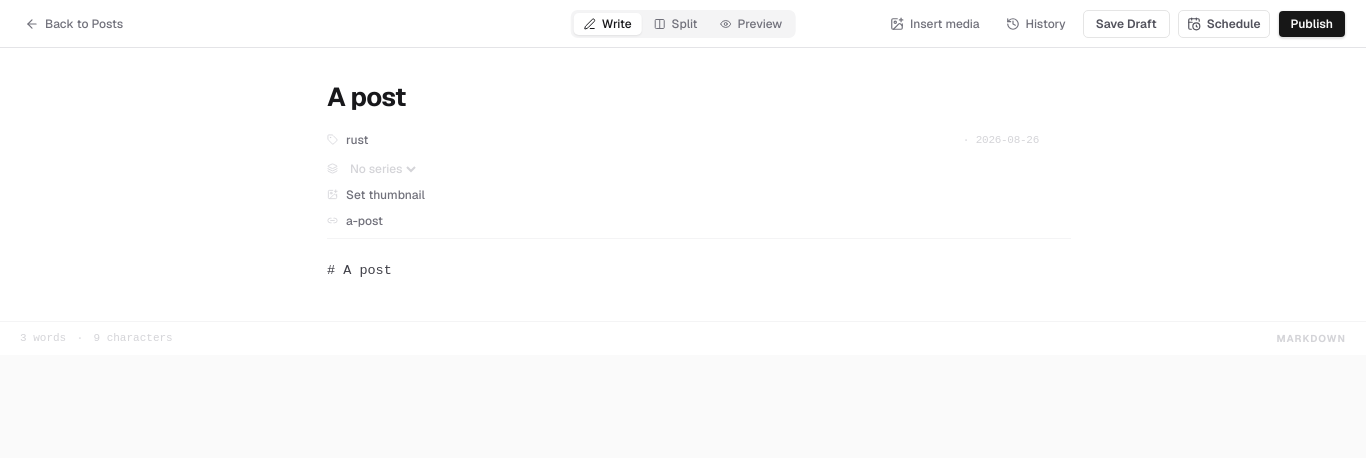
Test case: the pre-publish check › lets the author go back without publishing
Click the button "Publish": (1312, 24) [1278,10,1346,38]
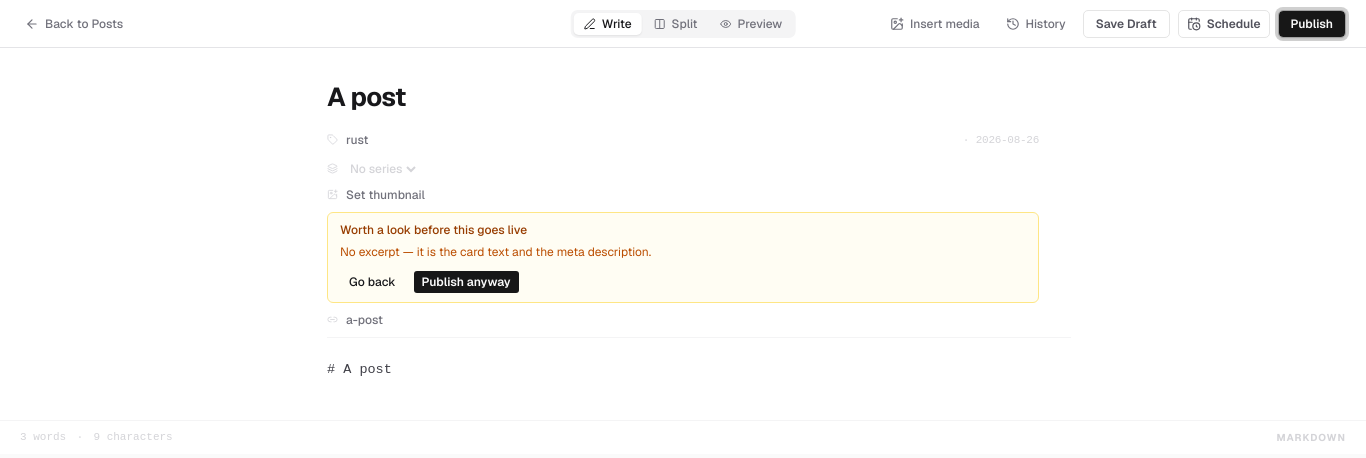
Click the button "Go back": (372, 282) [340,270,405,294]
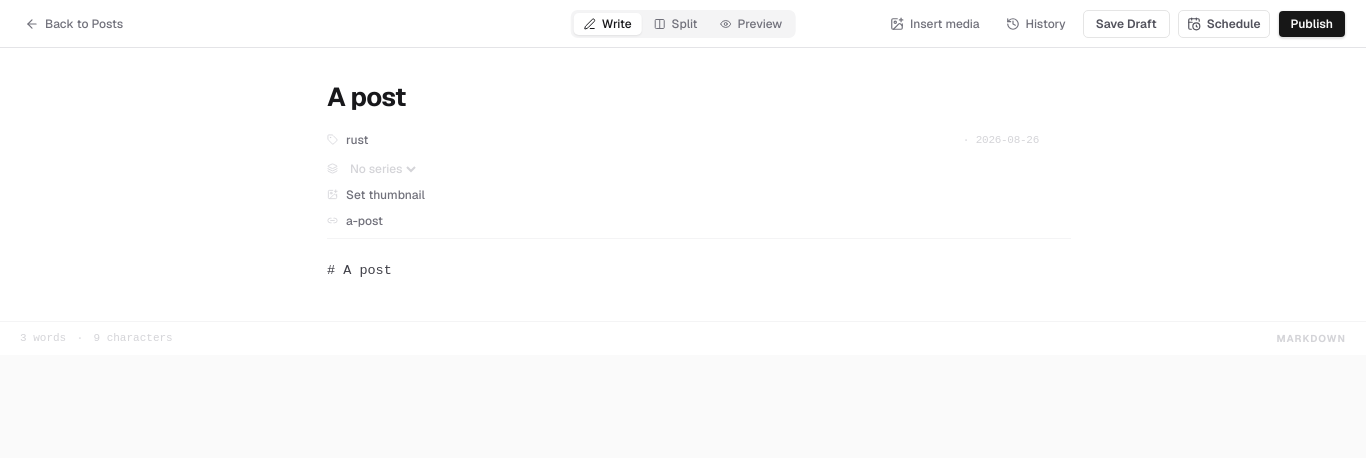
Expected: the text "Worth a look" is gone
